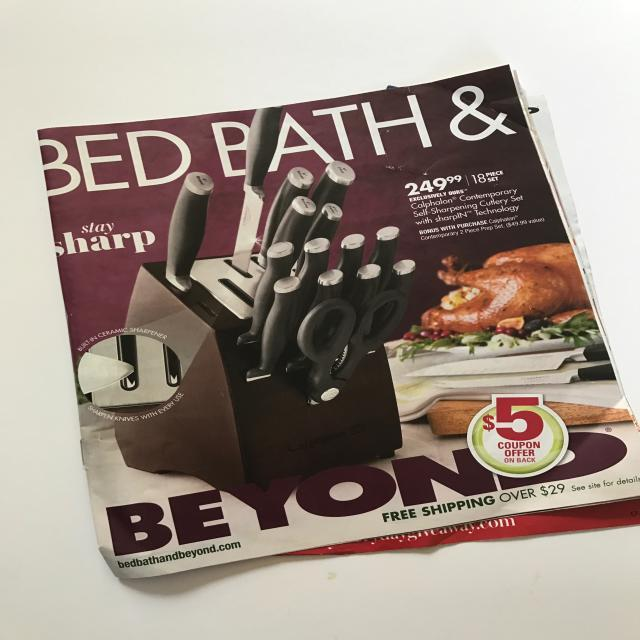paper: (33, 58, 640, 583)
